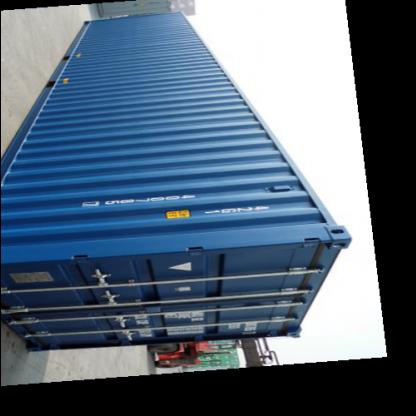Damage: (302, 242, 326, 286), (70, 48, 92, 64)
